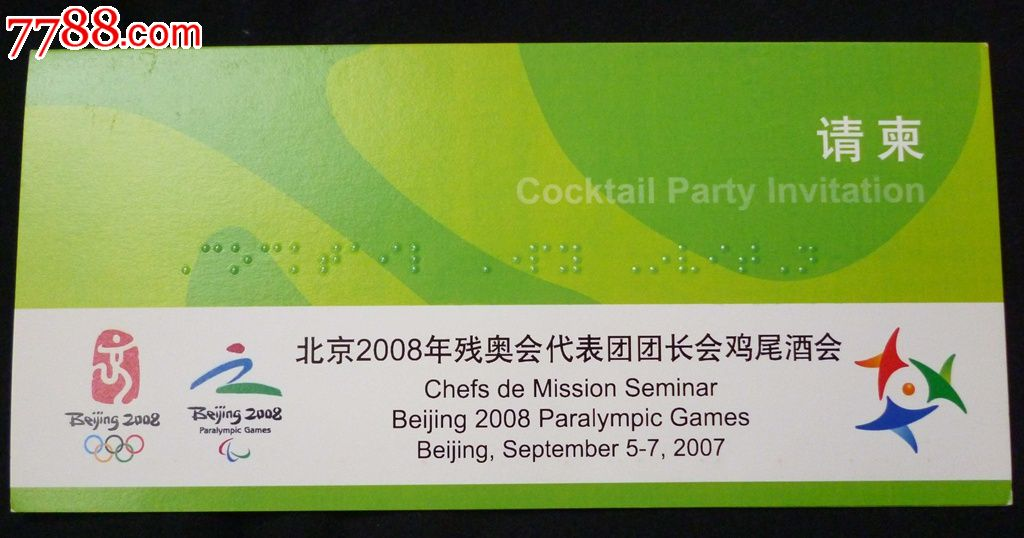Braille: (409, 241, 438, 276), (349, 241, 375, 278), (288, 240, 314, 276), (166, 241, 191, 278), (466, 241, 492, 275), (527, 241, 552, 276), (379, 241, 402, 277), (498, 240, 522, 274), (320, 242, 343, 277), (737, 241, 760, 276), (619, 240, 642, 275), (709, 241, 731, 277), (559, 242, 583, 275), (648, 241, 671, 275), (230, 241, 252, 276), (201, 243, 223, 277), (677, 242, 699, 276), (796, 243, 818, 276), (260, 243, 282, 275), (768, 243, 789, 275)
